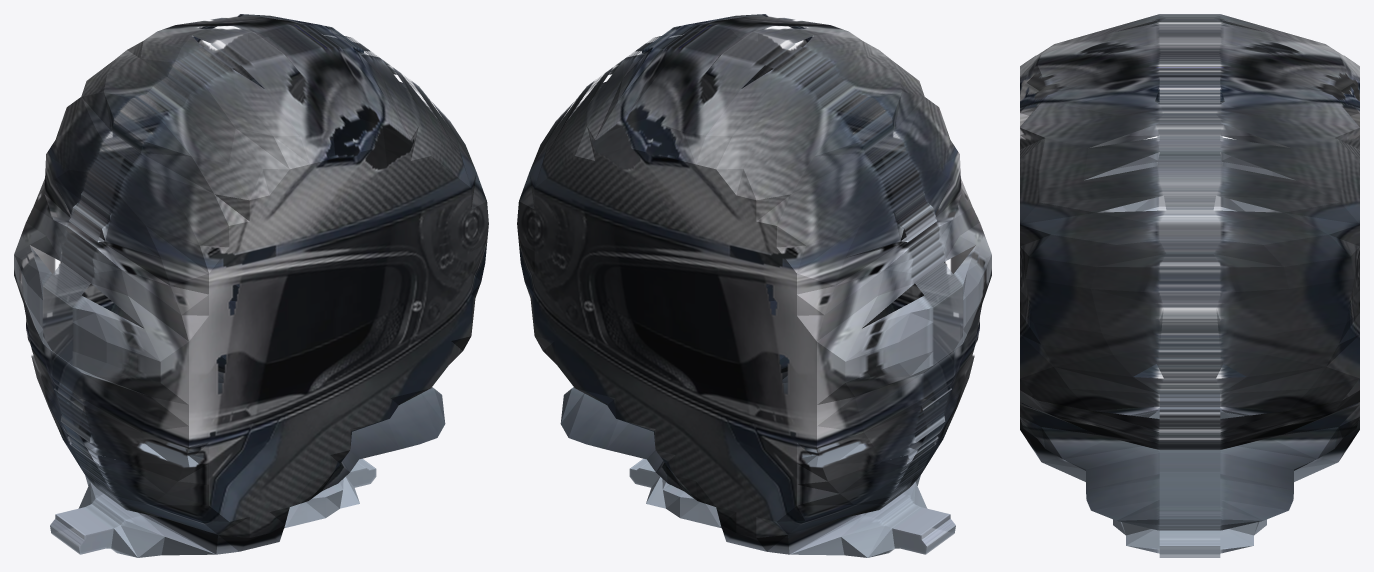
Rendered from schuberth-horizon-modular-helmet-060.glb.
3 views of the same model, side by side, from view 1: azimuth 30°, elevation 25°; view 2: azimuth 150°, elevation 25°; view 3: azimuth 270°, elevation 25° (orthographic). The views are drawn at different scales.
Parts seen in each view (by area): view 1: world; view 2: world; view 3: world.
Boxes of the visible parts, x1,y1,x2,y2 form: world: (14,14,488,557); world: (517,14,991,557); world: (1020,14,1359,557).
Bounding box in the file's own units: 0.875 × 1 × 0.64.
1 material, 1 textured.
